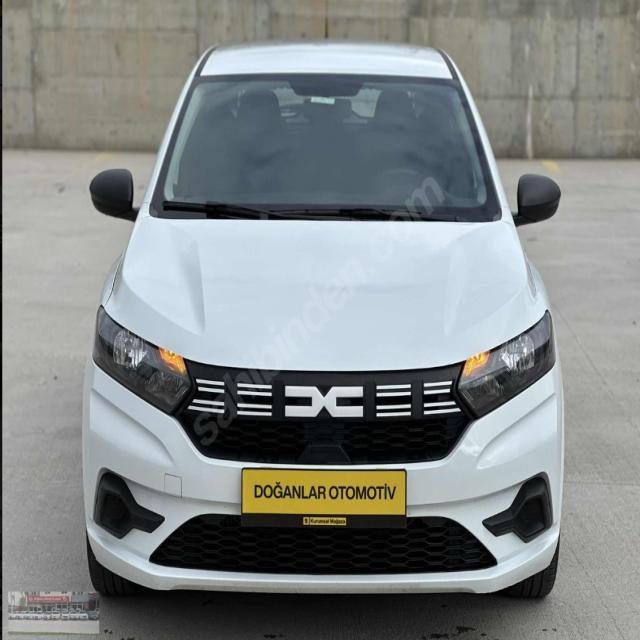dacia: (282, 377, 368, 427)
